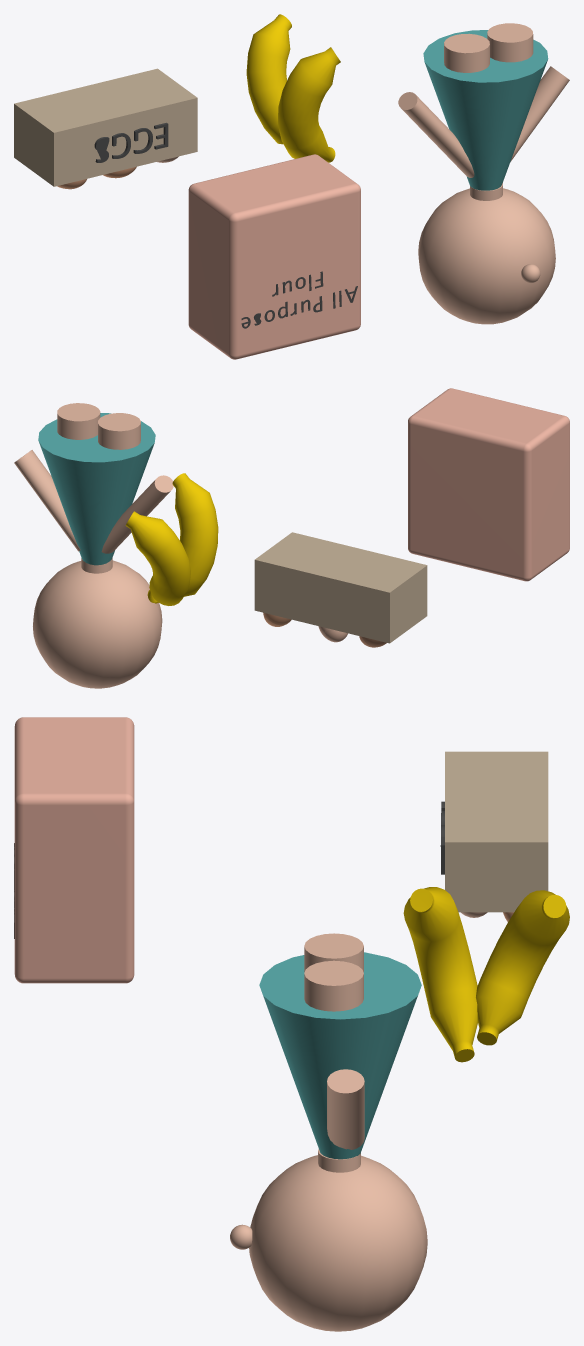
The model's file is Player, banana models.fbx.
3 views of the same model, one above another, from view 1: azimuth 30°, elevation 25°; view 2: azimuth 150°, elevation 25°; view 3: azimuth 270°, elevation 25° (orthographic). The views are drawn at different scales.
Visible parts, largest first — view 1: polySurface8, typeMesh4, pCube7, pCylinder12; view 2: polySurface8, typeMesh4, pCube7, pCylinder12; view 3: polySurface8, typeMesh4, pCube7, pCylinder12.
Boxes of the visible parts, bbox=[...] form: polySurface8: bbox=[398, 23, 569, 324]; typeMesh4: bbox=[188, 154, 360, 359]; pCube7: bbox=[14, 68, 197, 189]; pCylinder12: bbox=[246, 14, 340, 162]; polySurface8: bbox=[14, 403, 173, 688]; typeMesh4: bbox=[408, 388, 569, 581]; pCube7: bbox=[254, 532, 427, 647]; pCylinder12: bbox=[125, 473, 218, 605]; polySurface8: bbox=[230, 933, 427, 1331]; typeMesh4: bbox=[14, 717, 134, 983]; pCube7: bbox=[440, 751, 548, 921]; pCylinder12: bbox=[403, 887, 569, 1062].
Bounding box in the file's own units: 21.77 × 12.51 × 17.07.
